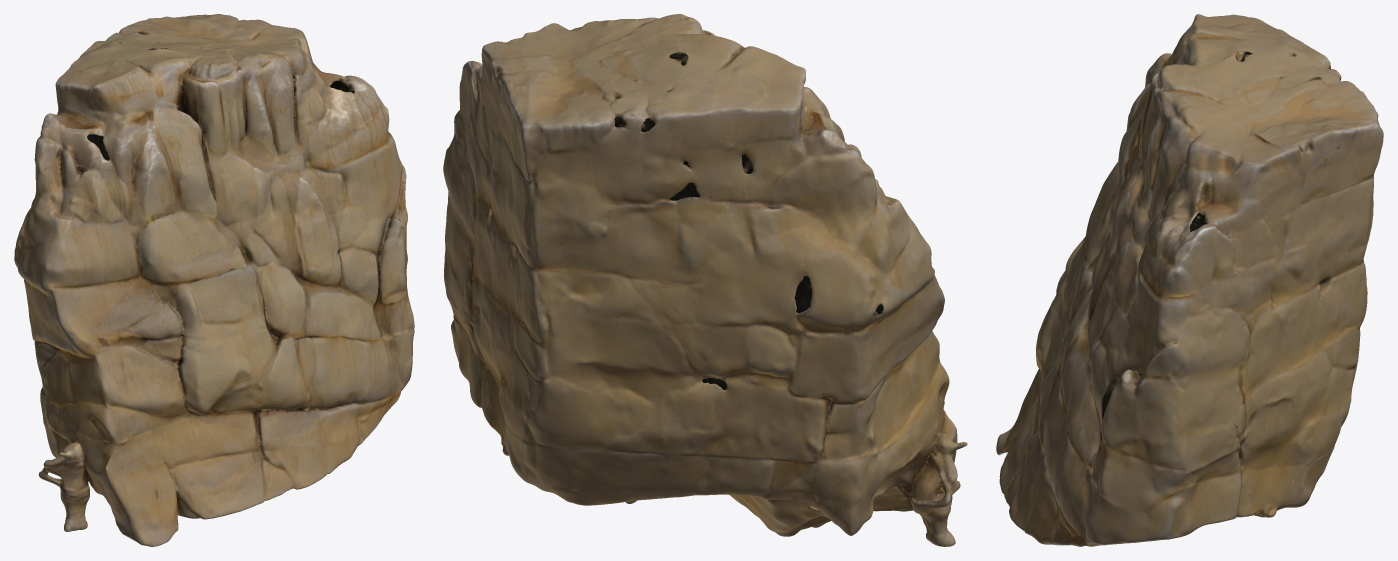
File: Meshy_AI_large_stylized_limest_1016200604_texture.fbx
The picture shows the model from 3 angles, left to right: view 1: azimuth 30°, elevation 25°; view 2: azimuth 150°, elevation 25°; view 3: azimuth 270°, elevation 25°; orthographic projection. The views are drawn at different scales.
Parts seen in each view (by area): view 1: Mesh_0; view 2: Mesh_0; view 3: Mesh_0.
Part boxes in pixels (bbox=[...]): Mesh_0: bbox=[14, 14, 414, 546]; Mesh_0: bbox=[443, 14, 967, 546]; Mesh_0: bbox=[996, 14, 1383, 546].
Size of the model in its own units: 198 by 199 by 150.
1 material, 1 textured.
